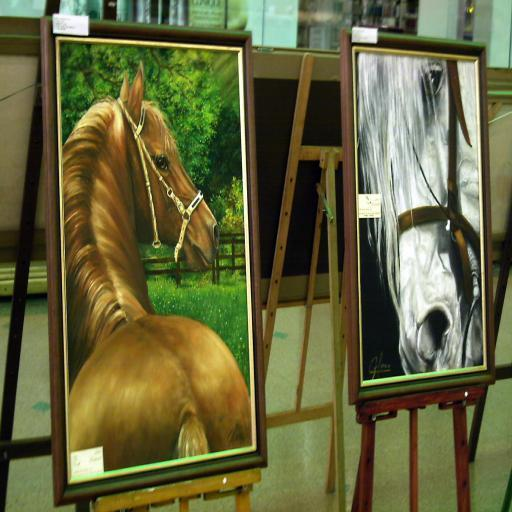horse: (63, 59, 252, 479), (356, 52, 486, 375)
